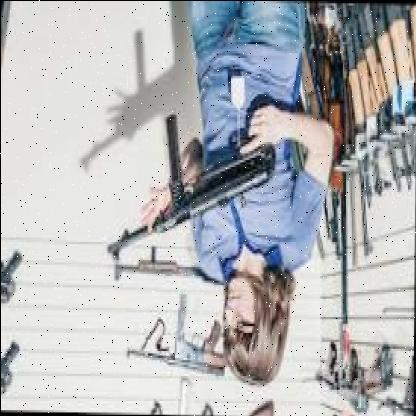rifle: (104, 112, 276, 270)
